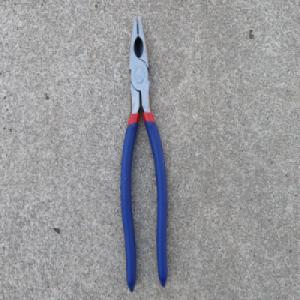Pliers: (118, 15, 168, 295)
